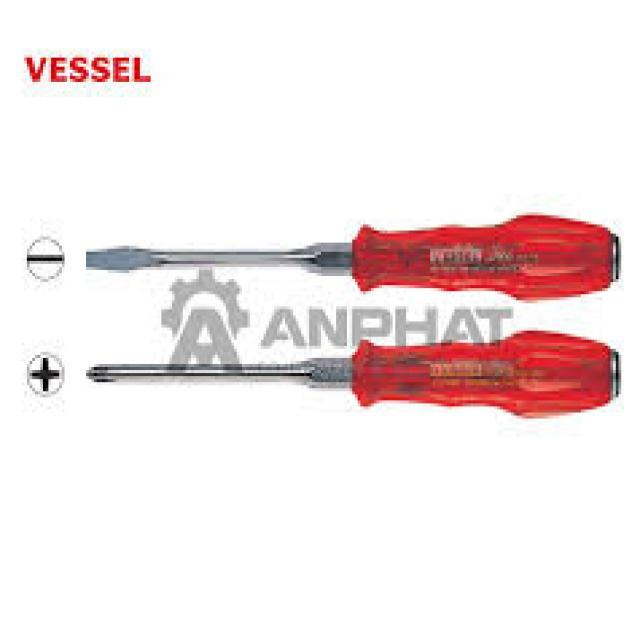screwdriver: (73, 328, 622, 424), (78, 214, 621, 302)
